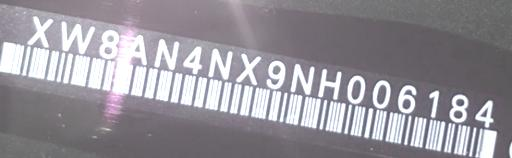letter: (56, 22, 94, 53), (149, 39, 183, 68), (232, 52, 260, 86), (392, 82, 424, 111), (288, 61, 316, 93), (30, 13, 56, 46), (316, 68, 344, 98), (444, 91, 472, 120), (124, 31, 148, 64), (206, 47, 232, 77), (473, 97, 499, 126), (96, 28, 120, 59), (262, 59, 288, 87), (368, 79, 392, 109), (182, 43, 204, 72), (424, 86, 442, 115), (348, 74, 366, 102)
